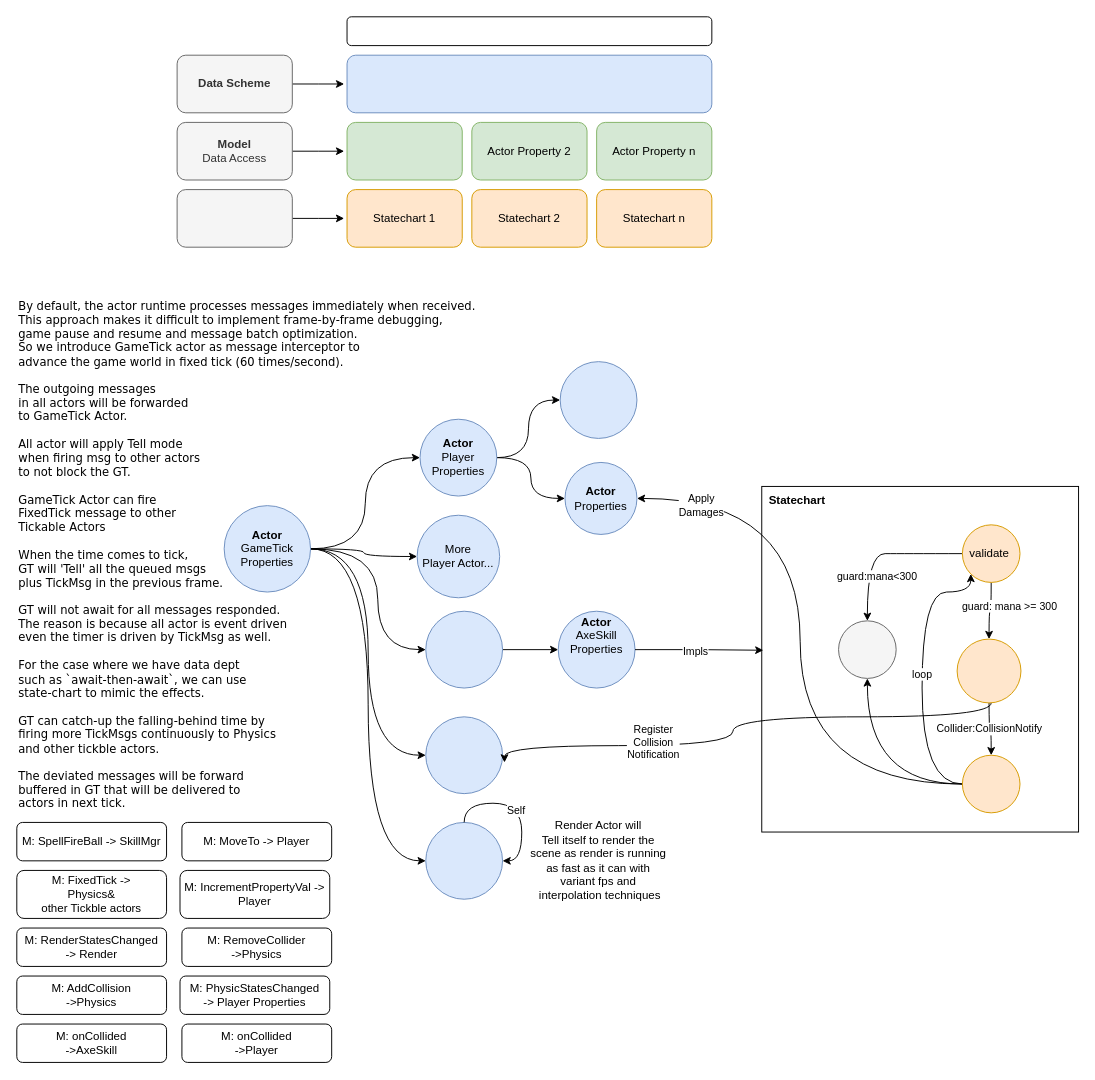
Image size: 1095x1080. Some labels were removed from this diagram. Each missing label, with the centre of its shape:
"Actor NetworkInput" goes at pixel 598 399.
"Actor Physics Properties" goes at pixel 464 755.
"Actor Property 1" goes at pixel 404 150.
"Actor Render Properties" goes at pixel 464 860.
"Actor SkillManager Properties" goes at pixel 464 649.
"Attacked" goes at pixel 990 783.
"Controller Business Logic" goes at pixel 234 218.
"Player Actor" goes at pixel 529 83.
"Statechart-driven Actor Model" goes at pixel 529 31.
"Terminate" goes at pixel 867 649.
"Waiting Collision Attacking" goes at pixel 988 670.
